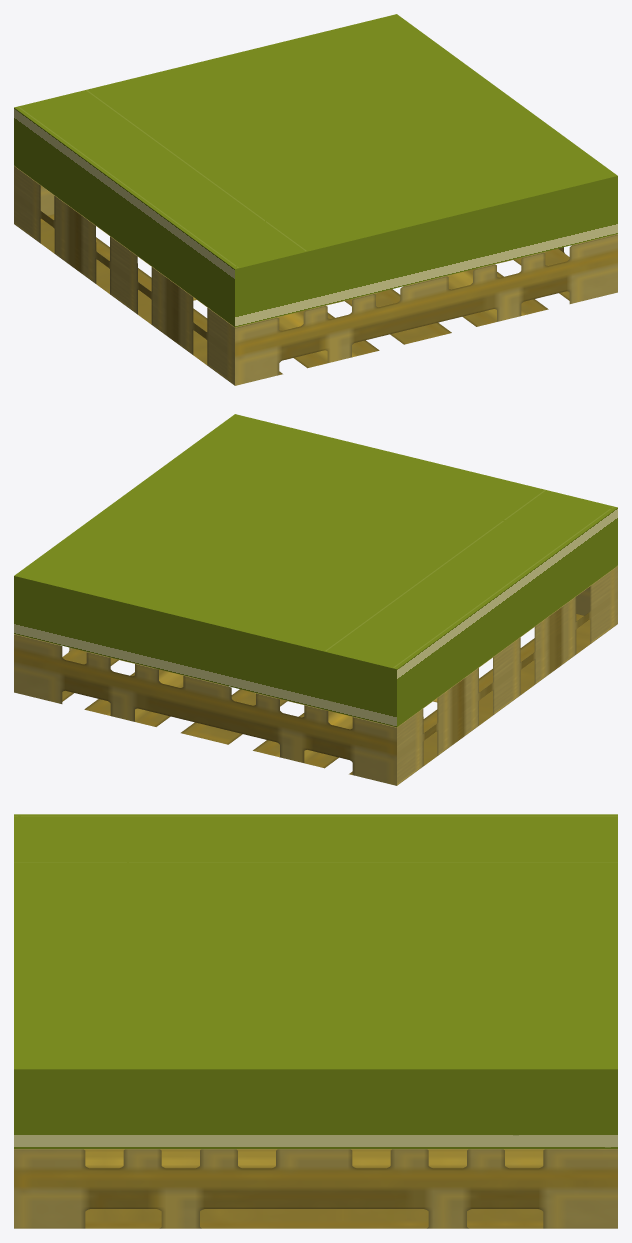
Rendered from pallet.fbx.
The picture shows the model from 3 angles, top to bottom: view 1: azimuth 30°, elevation 25°; view 2: azimuth 150°, elevation 25°; view 3: azimuth 270°, elevation 25°; orthographic projection. The views are drawn at different scales.
Parts seen in each view (by area): view 1: stack-object, pallet-object; view 2: stack-object, pallet-object; view 3: stack-object, pallet-object.
Part boxes in pixels (box(x1,y1,x2,y2)): stack-object: box(14, 14, 617, 327); pallet-object: box(14, 166, 617, 385); stack-object: box(14, 414, 617, 727); pallet-object: box(14, 566, 617, 785); stack-object: box(14, 814, 617, 1148); pallet-object: box(14, 1149, 617, 1228).
Bounding box in the file's own units: 100 × 29.1 × 100.
